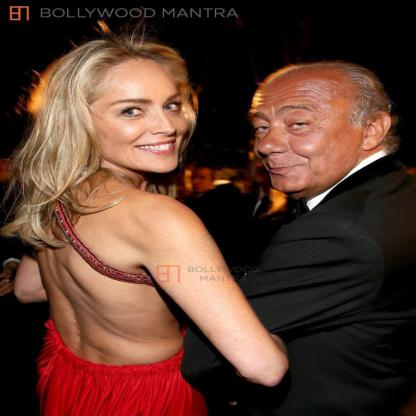face: (251, 72, 364, 194), (87, 56, 190, 173)
